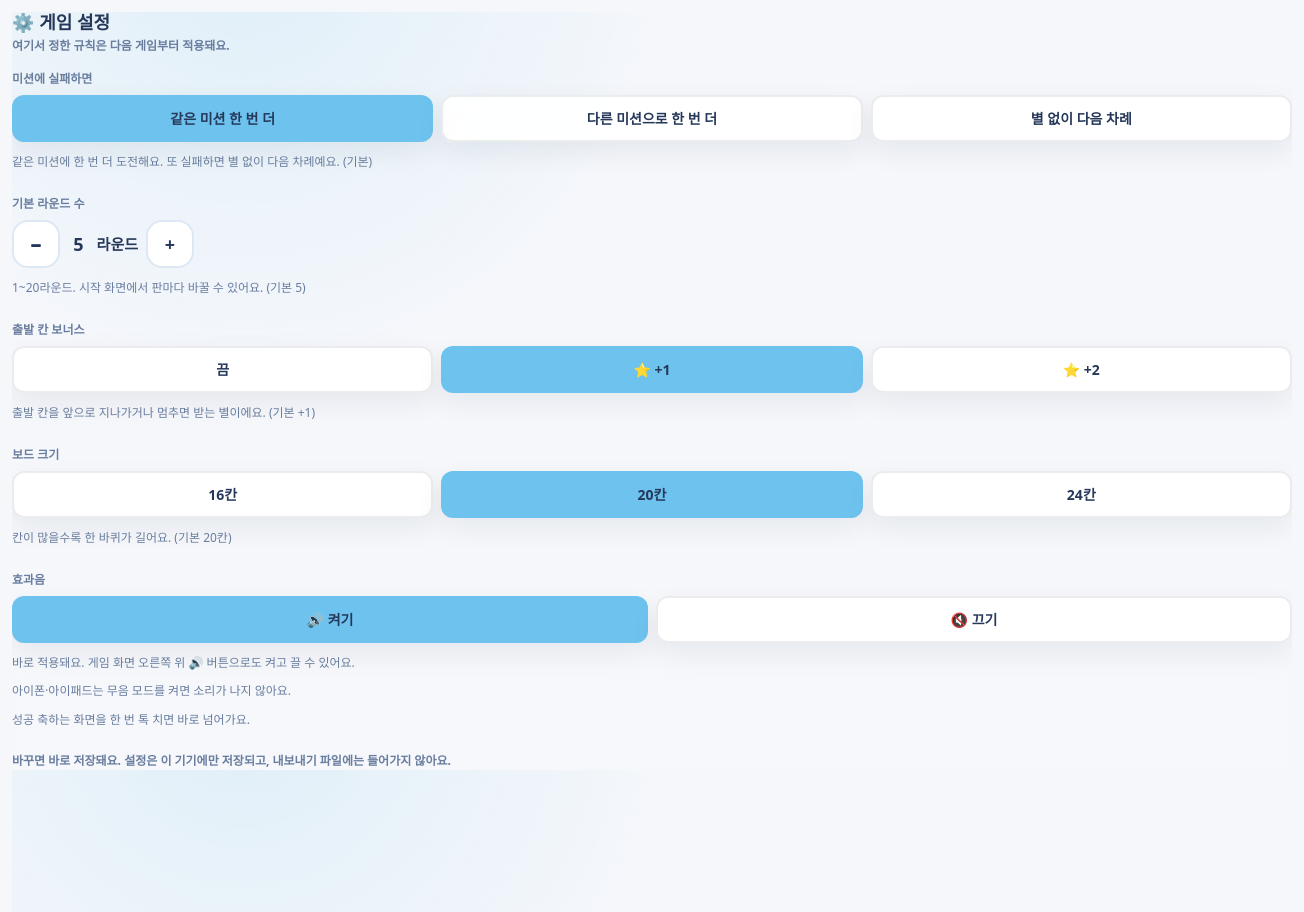
it: SettingsTab (S1, D-23, CFG-01~04) › 실패 규칙 3택 + 선택값에 따라 힌트가 바뀌고, 즉시 별도 키에 저장된다 (CFG-01)
expect the text "같은 미션에 한 번 더 도전해요. 또 실패하면 별 없이 다음 차례예요. (기본)" is shown: met, box [12, 153, 372, 170]
Click the button "다른 미션으로 한 번 더" at (652, 119), box [441, 95, 863, 142]
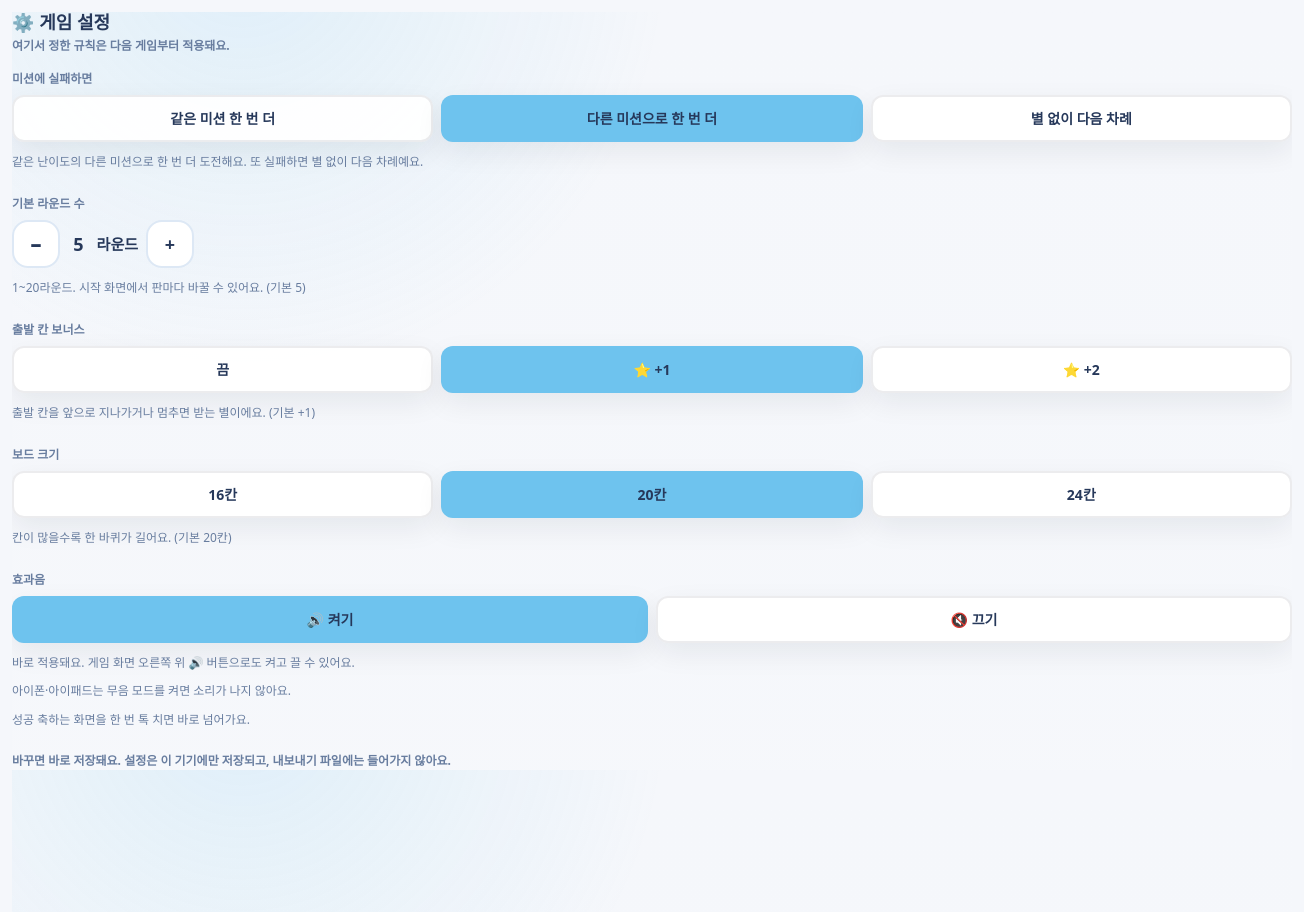
expect the text "같은 난이도의 다른 미션으로 한 번 더 도전해요. 또 실패하면 별 없이 다음 차례예요." is shown: met, box [12, 153, 423, 170]
expect the text "같은 미션에 한 번 더 도전해요. 또 실패하면 별 없이 다음 차례예요. (기본)" is gone: met
Click the button "별 없이 다음 차례" at (1081, 119), box [871, 95, 1292, 142]
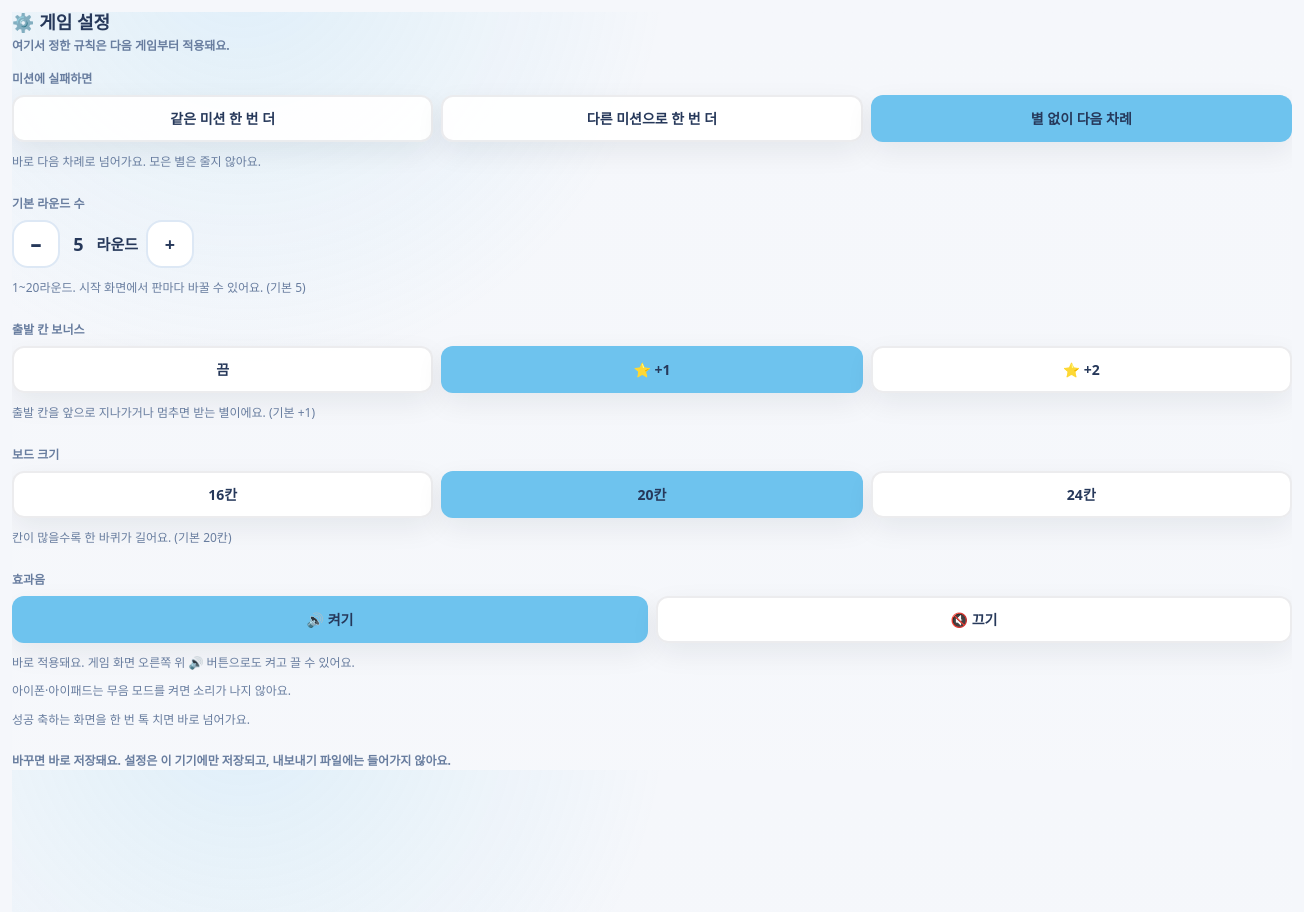
expect the text "바로 다음 차례로 넘어가요. 모은 별은 줄지 않아요." is shown: met, box [12, 153, 261, 170]
